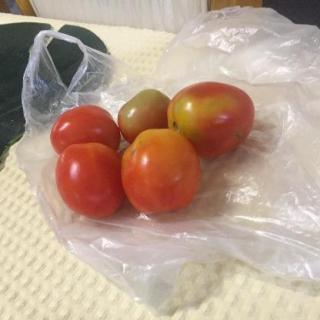Tomat: (32, 75, 272, 211)
